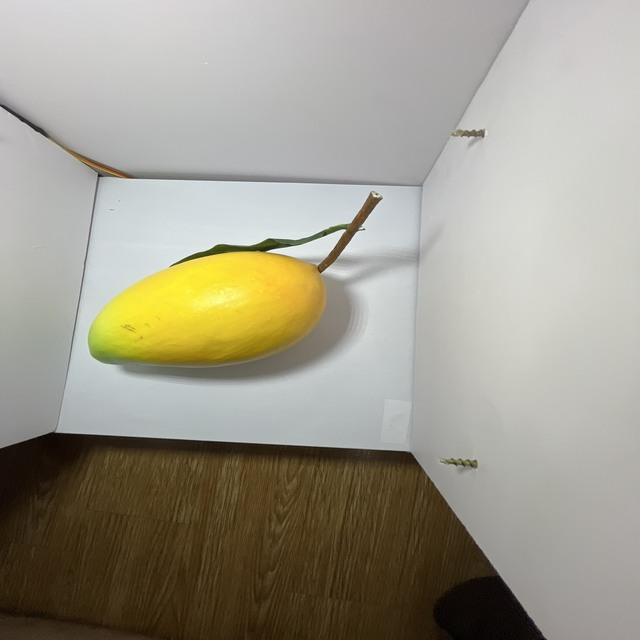Xoai: (86, 247, 331, 377)
